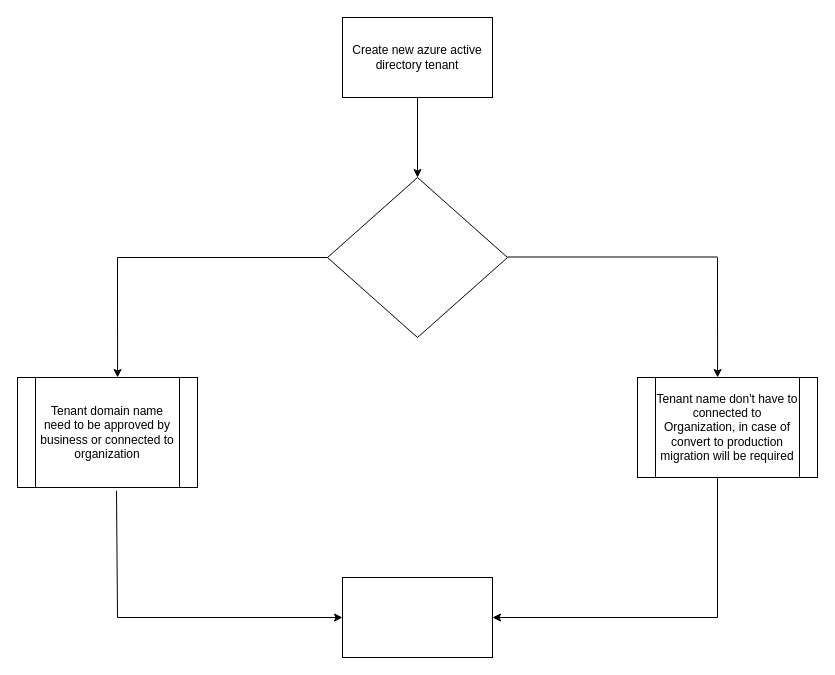
This 835x675 diagram has some shape labels left out. Each missing label, with the centre of its shape:
"New tenant *.onmicrosoft.com" goes at point (417, 617).
"Will tenant be converted to production ?" goes at point (417, 257).
